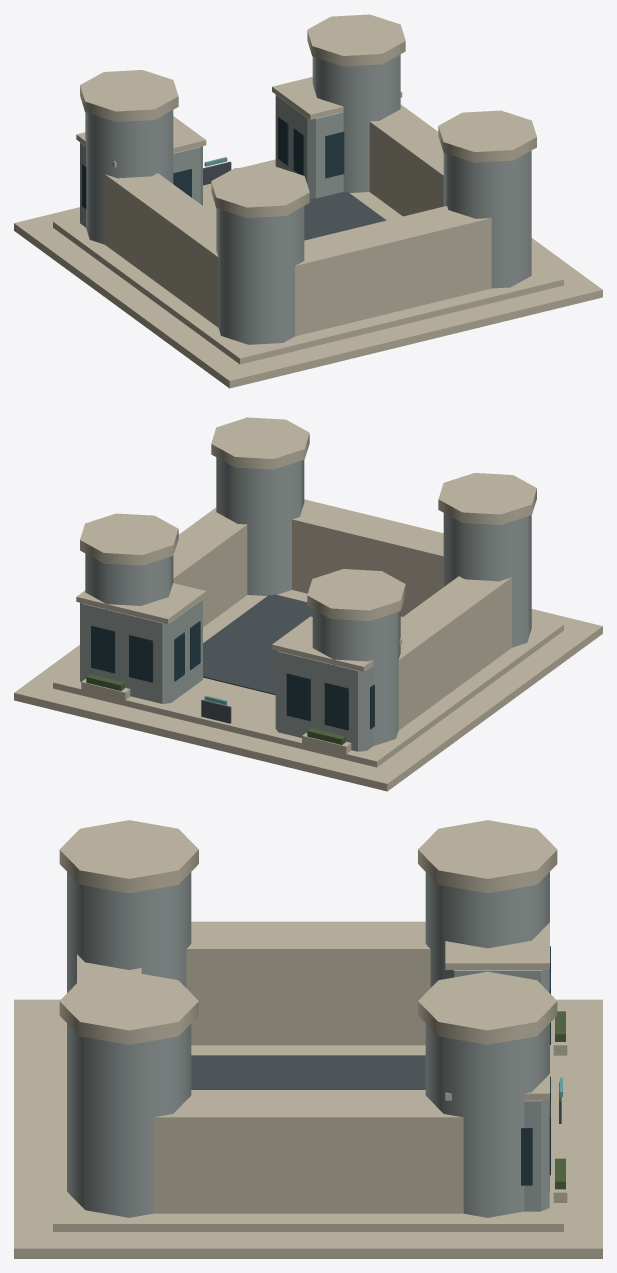
The model's file is defense.glb.
3 views of the same model, one above another, from view 1: azimuth 30°, elevation 25°; view 2: azimuth 150°, elevation 25°; view 3: azimuth 270°, elevation 25° (orthographic). The views are drawn at different scales.
Visible parts, largest first — view 1: watchtowers, bastion-walls, bastion-rear-wall, tower-battlements, foundation, plinth, gatehouses, parade-yard, windows, roof-slabs; view 2: watchtowers, bastion-walls, tower-battlements, foundation, gatehouses, plinth, bastion-rear-wall, parade-yard, windows, roof-slabs, planters, planting (+1 smaller); view 3: bastion-walls, watchtowers, foundation, tower-battlements, plinth, parade-yard, roof-slabs, gatehouses, windows, planting, bastion-rear-wall, planters.
Part boxes in pixels (x1,y1,x2,y2): watchtowers: (85, 54, 531, 344); bastion-walls: (105, 104, 443, 327); bastion-rear-wall: (295, 206, 491, 336); tower-battlements: (80, 14, 536, 217); foundation: (14, 159, 602, 388); plinth: (53, 183, 563, 364); gatehouses: (80, 95, 343, 227); parade-yard: (304, 192, 386, 240); windows: (82, 116, 344, 208); roof-slabs: (76, 77, 402, 167); watchtowers: (85, 457, 531, 746); bastion-walls: (173, 507, 511, 730); tower-battlements: (80, 417, 536, 620); foundation: (14, 609, 602, 791); gatehouses: (80, 599, 372, 751); plinth: (53, 590, 563, 767); bastion-rear-wall: (292, 499, 443, 616); parade-yard: (203, 594, 312, 695); windows: (91, 621, 374, 730); roof-slabs: (76, 583, 402, 671); planters: (81, 678, 351, 753); planting: (86, 674, 345, 744); bastion-walls: (153, 921, 463, 1213); watchtowers: (67, 872, 549, 1217); foundation: (14, 999, 602, 1258); tower-battlements: (59, 820, 557, 1044); plinth: (53, 1008, 563, 1231); parade-yard: (191, 1055, 425, 1089); roof-slabs: (445, 922, 549, 1100); gatehouses: (445, 970, 549, 1211); windows: (444, 946, 550, 1185); planting: (555, 1011, 565, 1189); bastion-rear-wall: (77, 954, 141, 982); planters: (553, 1015, 567, 1202).
Bounding box in the file's own units: 15.52 × 6.08 × 15.52.
